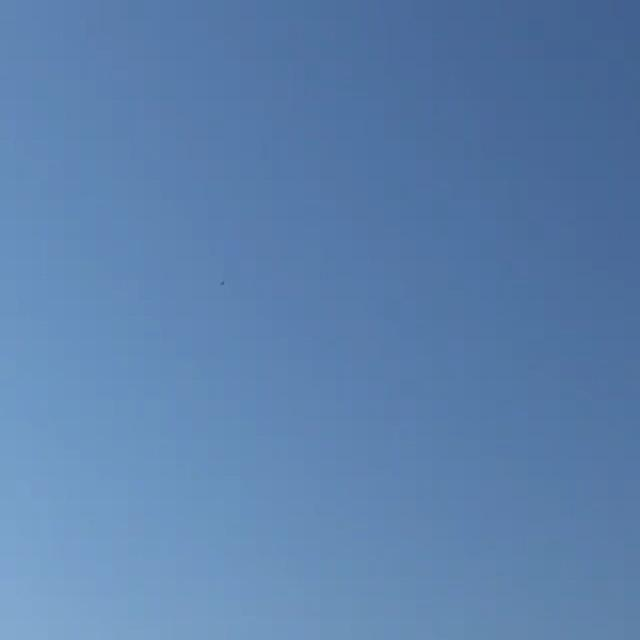bird: (219, 278, 225, 288)
